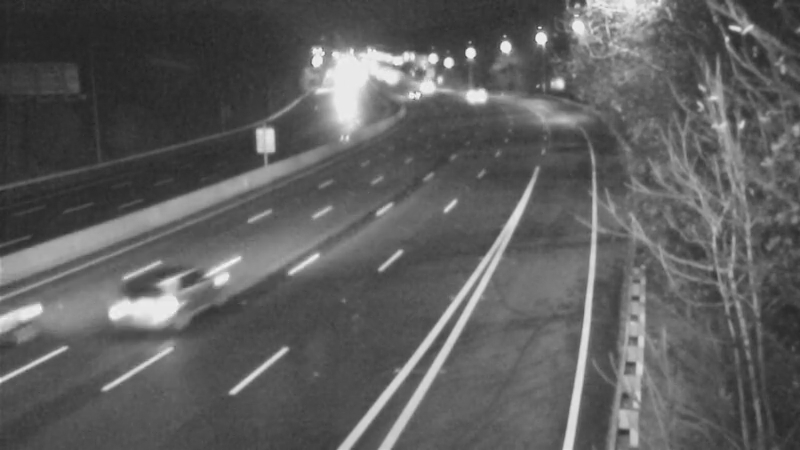vehicle: (97, 251, 207, 361), (1, 273, 88, 383), (394, 68, 444, 118), (444, 72, 494, 122)
